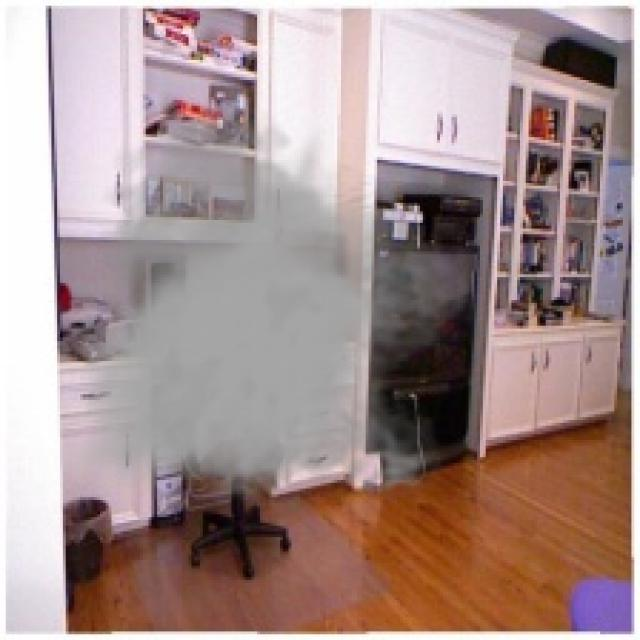smoke: (63, 108, 471, 506)
